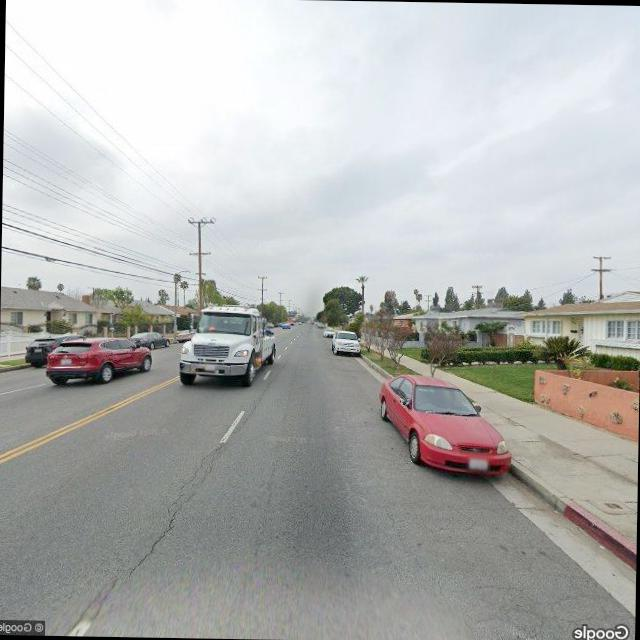crack: (446, 515, 620, 640)
pothole: (130, 427, 242, 568)
